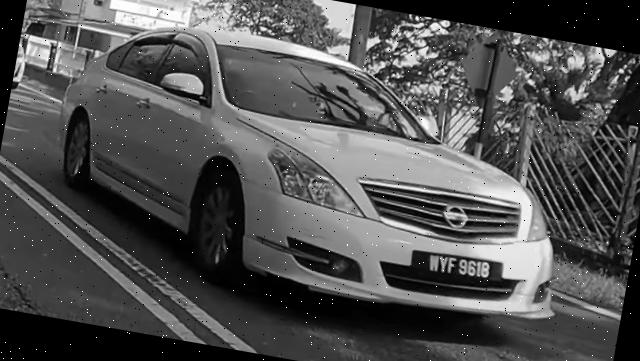License_Plate: (413, 248, 504, 284)
car: (35, 2, 595, 340)
